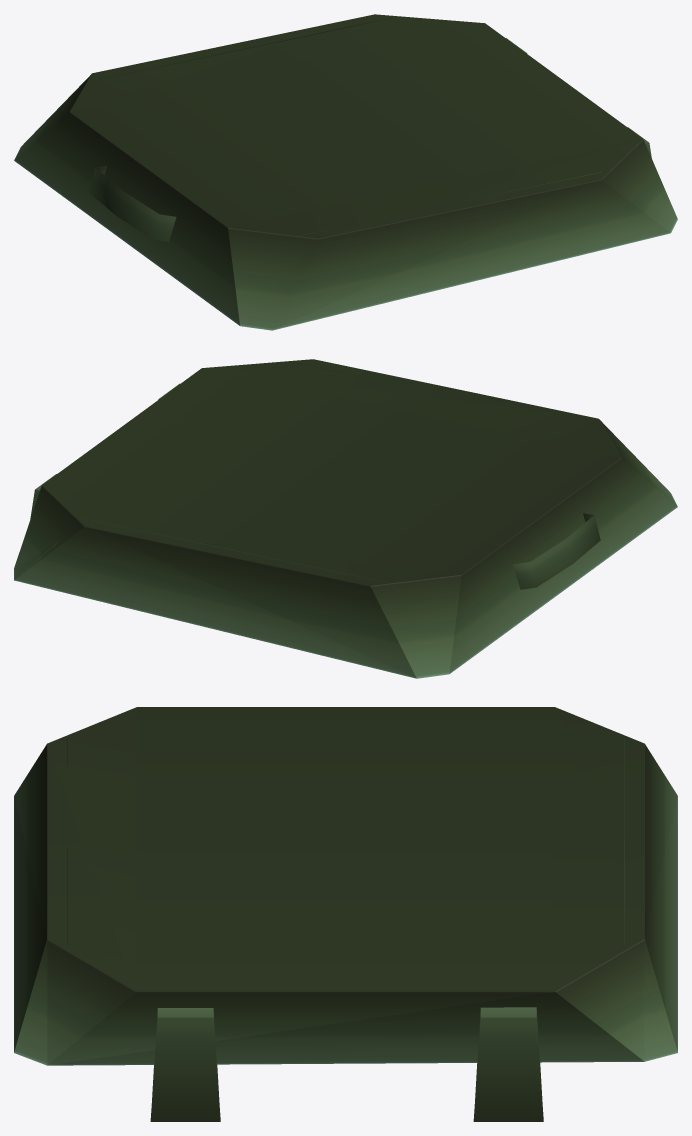
File: recyclelid.obj
3 renders of one model, top to bottom at view 1: azimuth 30°, elevation 25°; view 2: azimuth 150°, elevation 25°; view 3: azimuth 270°, elevation 25°, orthographic. The views are drawn at different scales.
Bounding box in the file's own units: 2.26 × 0.5401 × 2.09.
